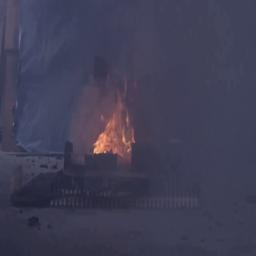fire: (92, 102, 138, 168)
